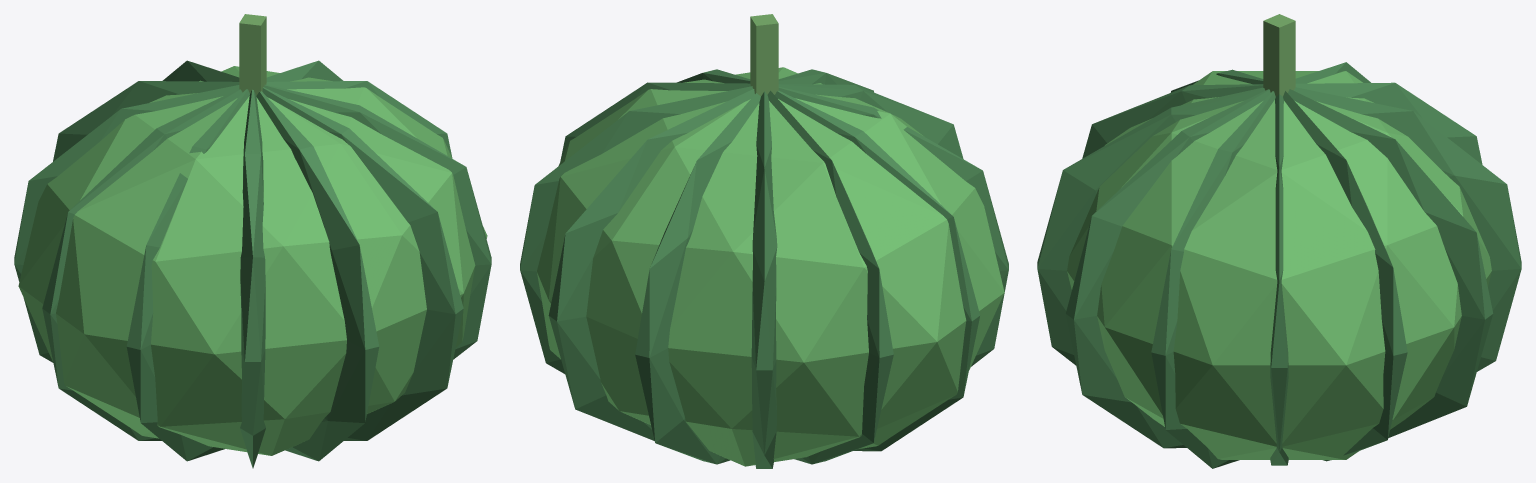
File: suika.glb
3 renders of one model, left to right at view 1: azimuth 30°, elevation 25°; view 2: azimuth 150°, elevation 25°; view 3: azimuth 270°, elevation 25°, orthographic. The views are drawn at different scales.
Visible parts, largest first — view 1: suika; view 2: suika; view 3: suika.
Part boxes in pixels (left/top/right/bottom): suika: left=14, top=14, right=491, bottom=468; suika: left=520, top=14, right=1008, bottom=468; suika: left=1037, top=14, right=1521, bottom=468.
Bounding box in the file's own units: 0.4484 × 0.4355 × 0.4484.
